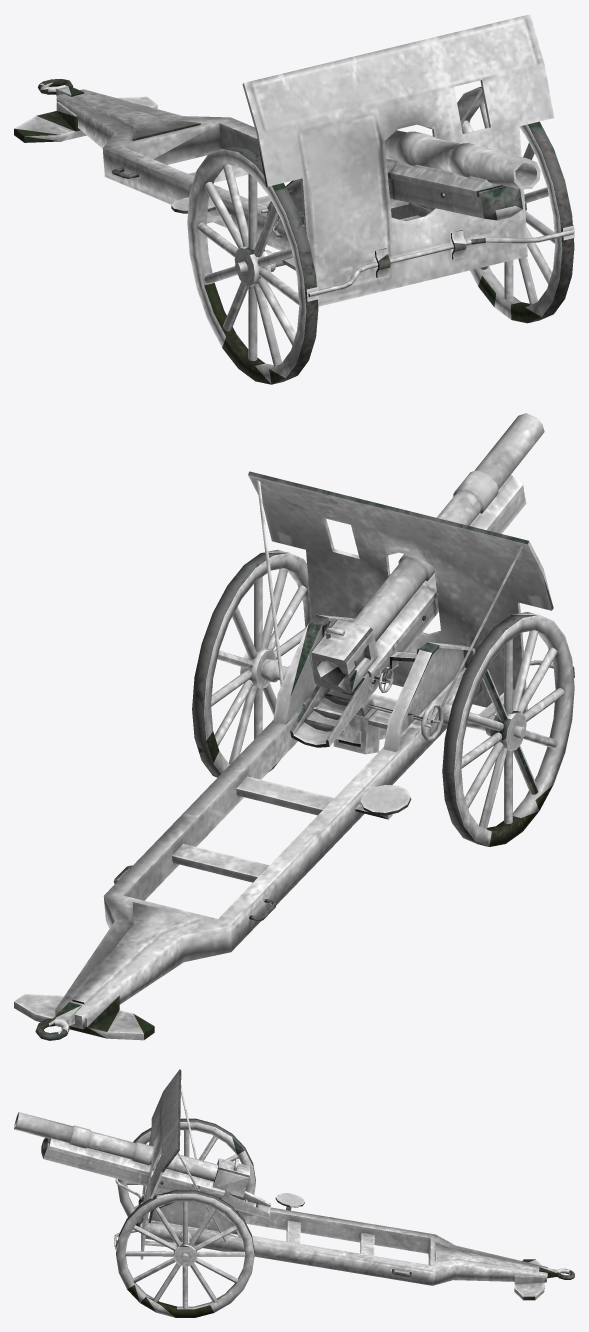
The model's file is artillery.glb.
The picture shows the model from 3 angles, top to bottom: view 1: azimuth 30°, elevation 25°; view 2: azimuth 150°, elevation 25°; view 3: azimuth 270°, elevation 25°; orthographic projection. The views are drawn at different scales.
Visible parts, largest first — view 1: artillery; view 2: artillery; view 3: artillery.
Boxes of the visible parts, <box> form: artillery: <box>14,14,574,384</box>; artillery: <box>14,413,574,1040</box>; artillery: <box>14,1069,574,1317</box>.
Bounding box in the file's own units: 2.02 × 2.03 × 6.
Materials: 2 (2 with a texture image).
